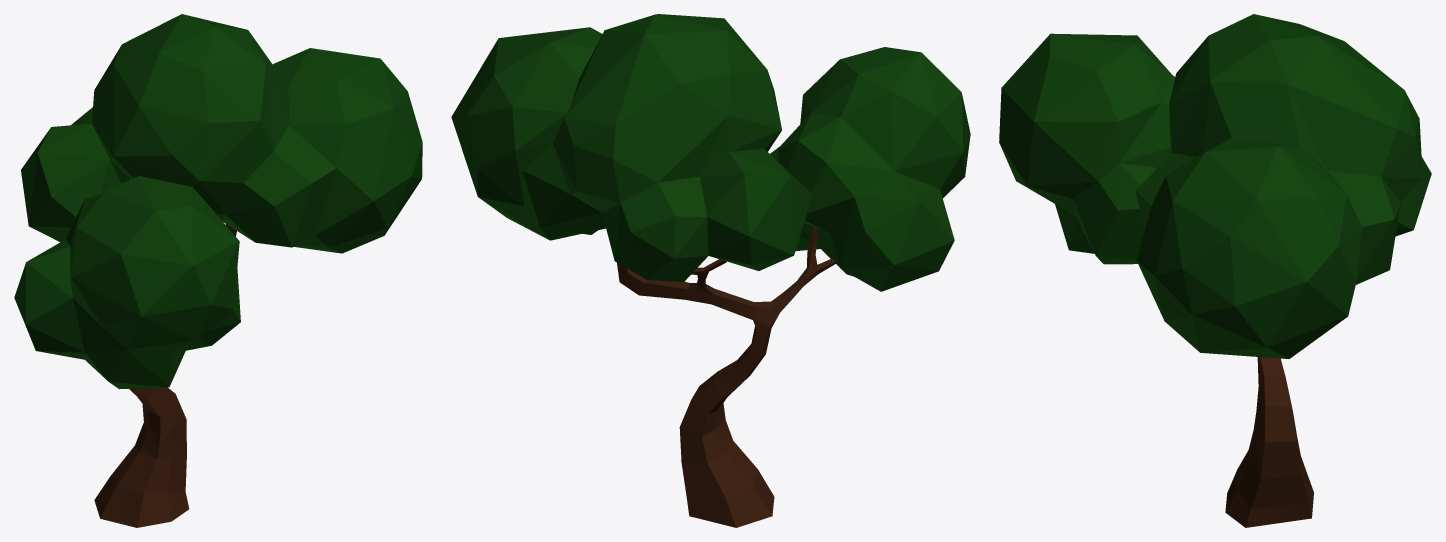
File: tree2.dae
3 renders of one model, left to right at view 1: azimuth 30°, elevation 25°; view 2: azimuth 150°, elevation 25°; view 3: azimuth 270°, elevation 25°, orthographic. The views are drawn at different scales.
Parts seen in each view (by area): view 1: LowPoly_Tree_07; view 2: LowPoly_Tree_07; view 3: LowPoly_Tree_07.
Boxes of the visible parts, x1=… form: LowPoly_Tree_07: x1=14, y1=14, x2=422, y2=527; LowPoly_Tree_07: x1=451, y1=14, x2=970, y2=527; LowPoly_Tree_07: x1=999, y1=14, x2=1431, y2=527.
Size of the model in its own units: 4.16 by 4.3 by 3.33.
